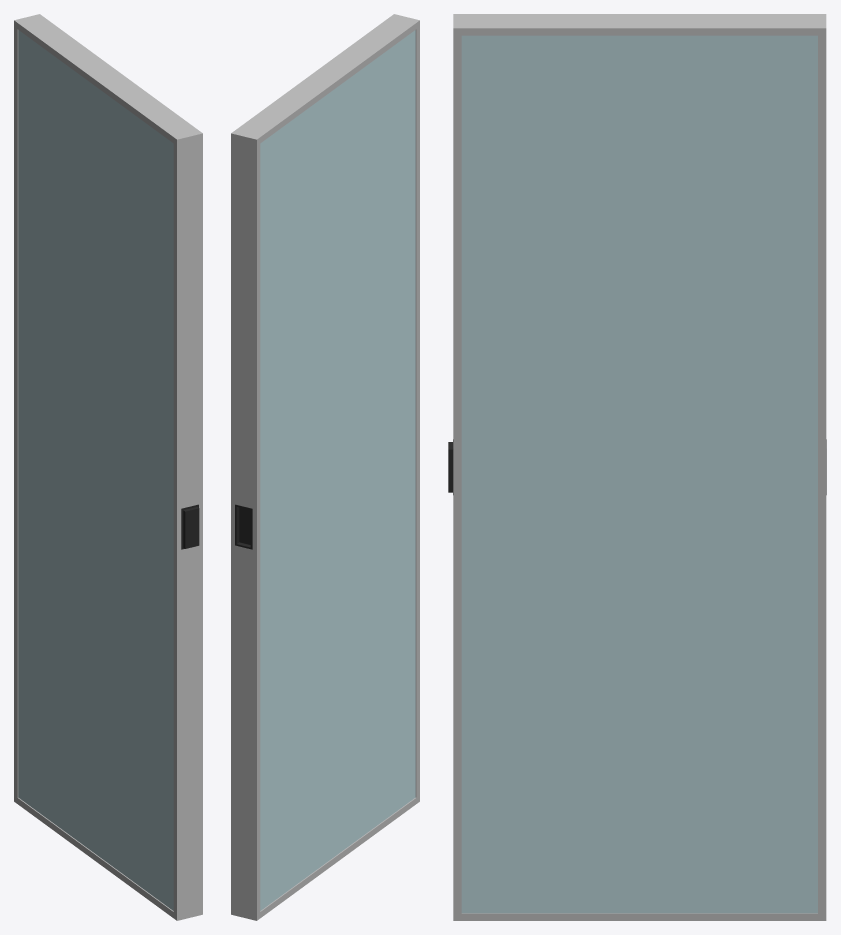
File: removablePanelModel.fbx
3 views of the same model, side by side, from view 1: azimuth 30°, elevation 25°; view 2: azimuth 150°, elevation 25°; view 3: azimuth 270°, elevation 25° (orthographic). The views are drawn at different scales.
Visible parts, largest first — view 1: panel; view 2: panel; view 3: panel.
Boxes of the visible parts, <box> form: panel: <box>14,14,202,920</box>; panel: <box>231,14,419,920</box>; panel: <box>448,14,826,920</box>.
Size of the model in its own units: 0.1045 by 3.02 by 1.16.
